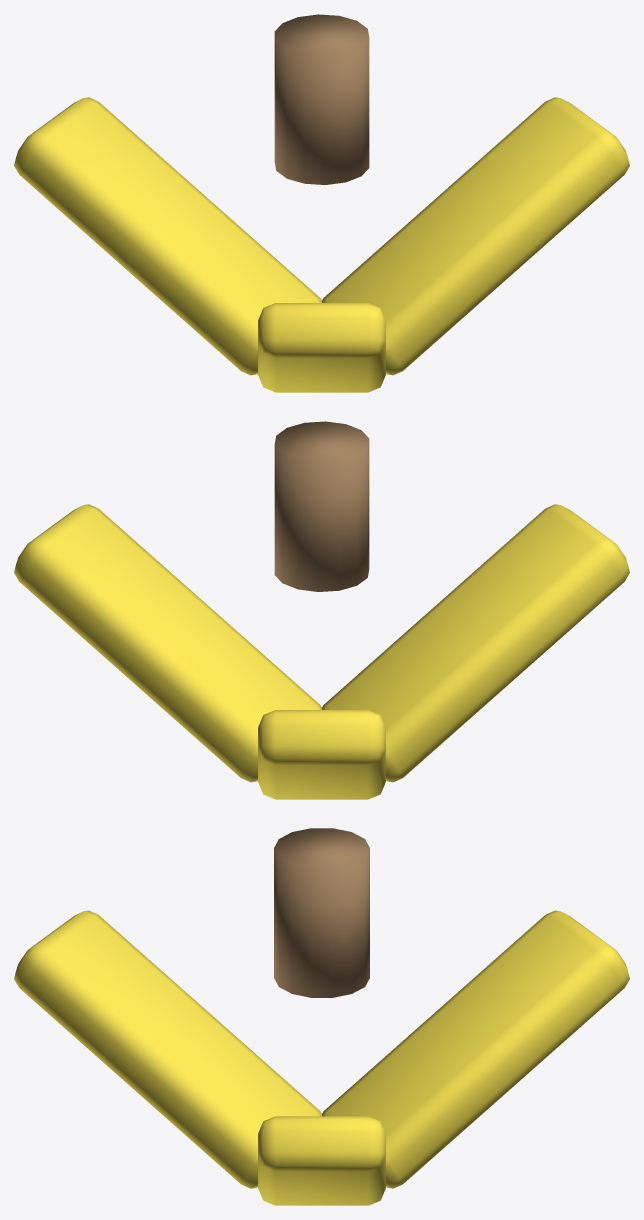
File: banana_peel.glb
3 views of the same model, one above another, from view 1: azimuth 30°, elevation 25°; view 2: azimuth 150°, elevation 25°; view 3: azimuth 270°, elevation 25° (orthographic).
Visible parts, largest first — view 1: Peel_0, Peel_120, Stem, Peel_240; view 2: Peel_0, Peel_240, Stem, Peel_120; view 3: Peel_120, Peel_240, Stem, Peel_0.
Boxes of the visible parts, left/top/right/bottom form: Peel_0: left=322, top=97, right=629, bottom=375; Peel_120: left=14, top=97, right=321, bottom=375; Stem: left=274, top=14, right=369, bottom=184; Peel_240: left=258, top=303, right=385, bottom=392; Peel_0: left=14, top=504, right=321, bottom=782; Peel_240: left=322, top=504, right=629, bottom=782; Stem: left=274, top=421, right=369, bottom=591; Peel_120: left=258, top=710, right=385, bottom=799; Peel_120: left=322, top=910, right=629, bottom=1188; Peel_240: left=14, top=910, right=321, bottom=1188; Stem: left=274, top=828, right=369, bottom=997; Peel_0: left=258, top=1116, right=385, bottom=1205.
Size of the model in its own units: 0.6723 by 0.4607 by 0.7714.
